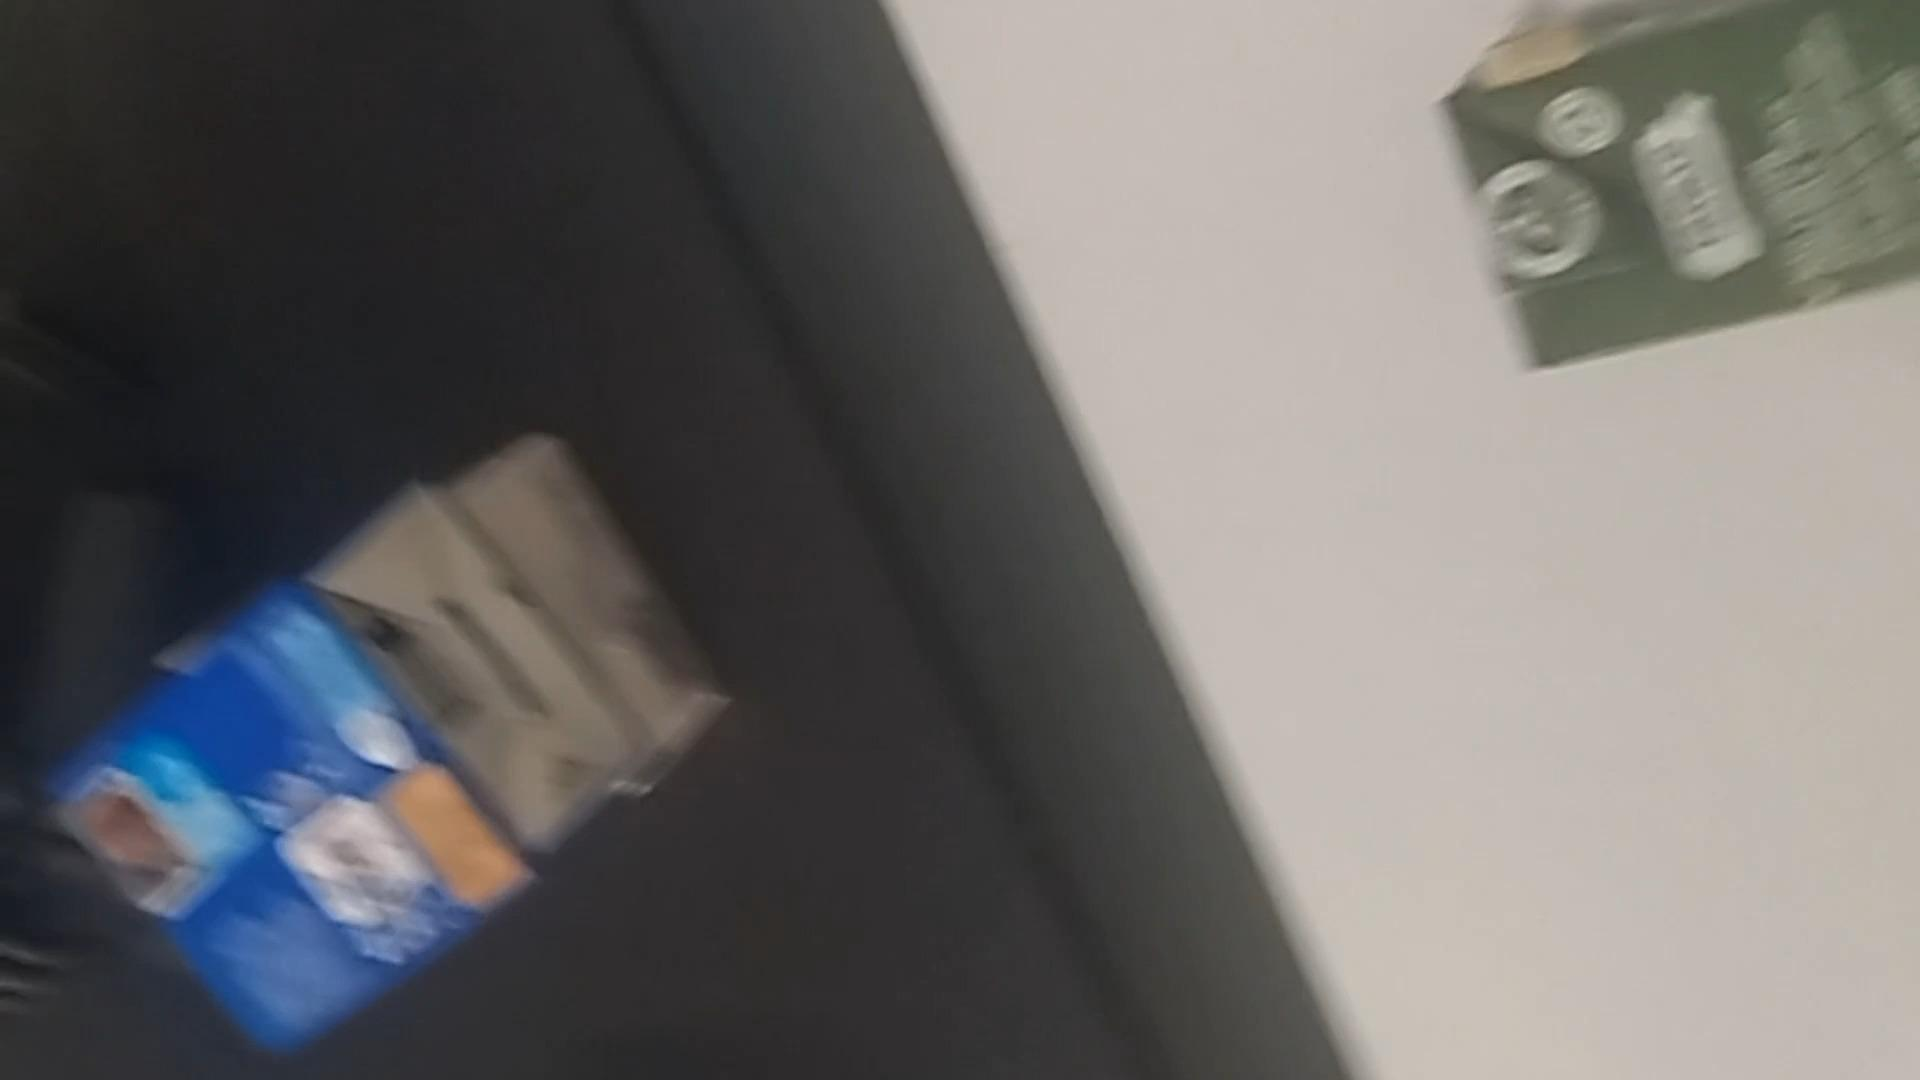coco: (1443, 0, 1920, 375)
